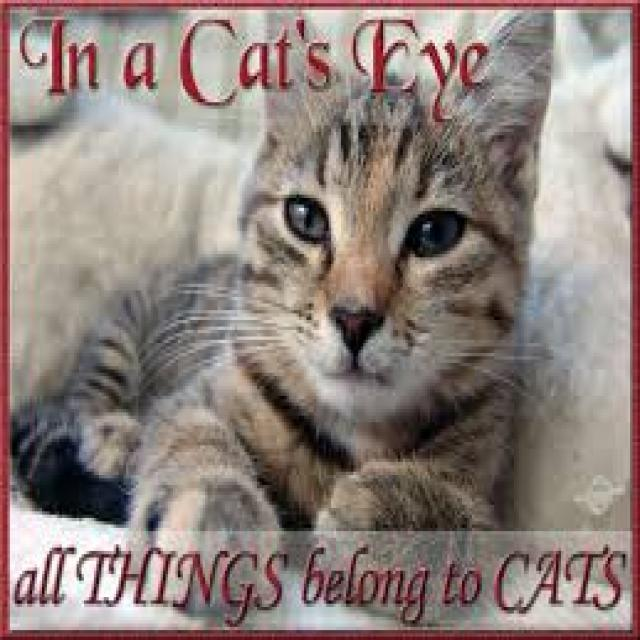Cat: (16, 124, 548, 530)
